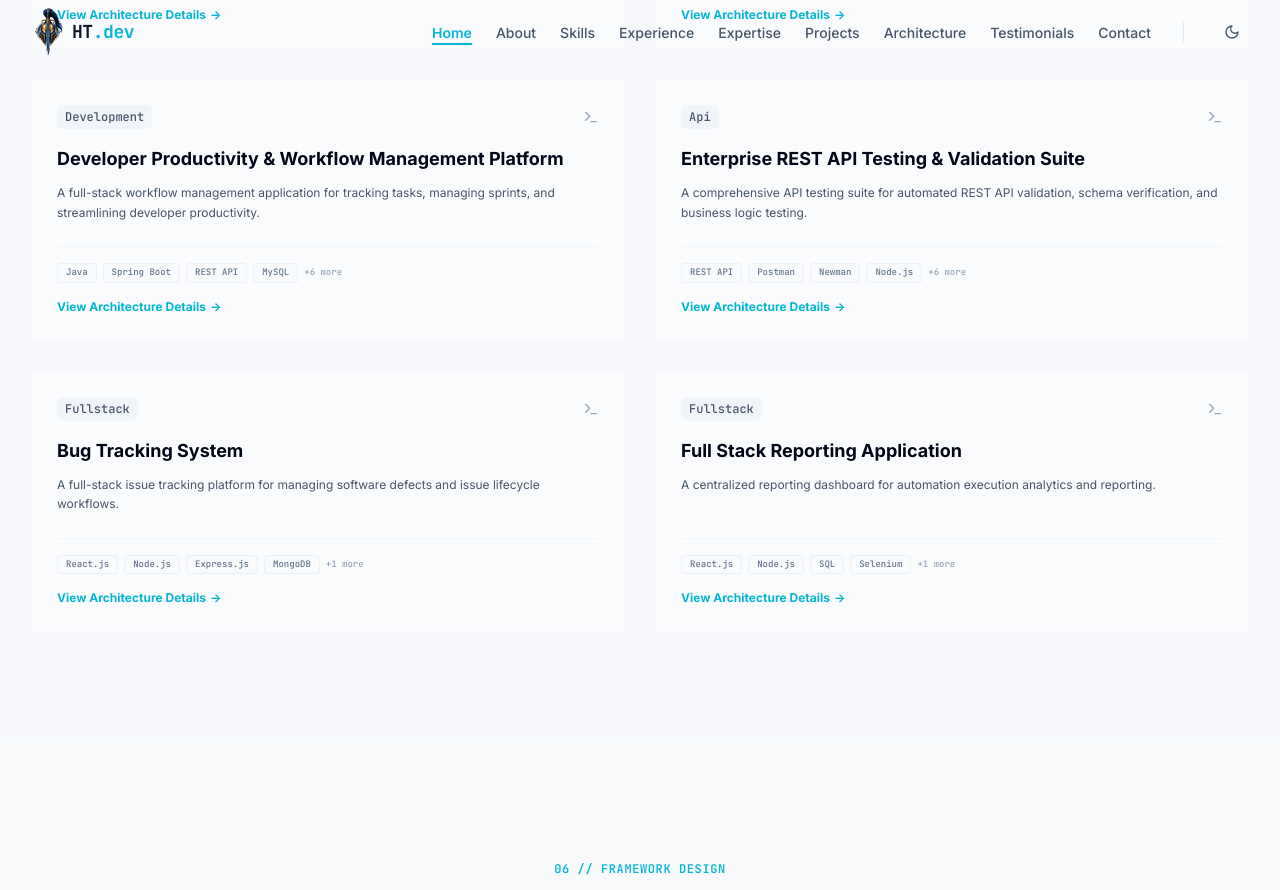
Test: Portfolio Application Test Suite › can open project modal details and close it
(page scrolled)
Click on a project card to select it
Click the heading "Bug Tracking System" at (150,450), box [57,440,243,460]
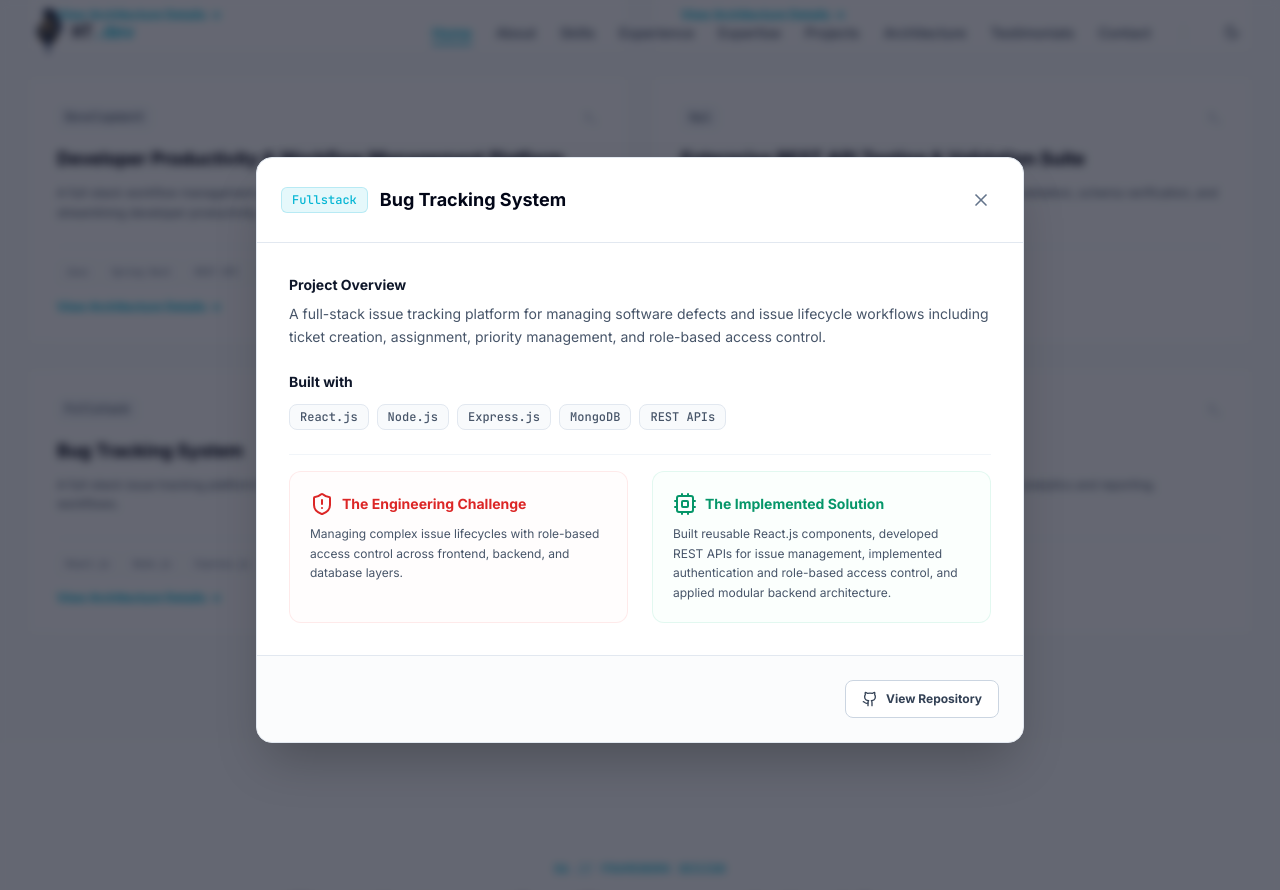
expect the dialog is shown: met, box [256,157,1024,743]
expect the text "The Engineering Challenge" is shown: met, box [342,494,526,514]
expect the text "The Implemented Solution" is shown: met, box [705,494,884,514]
Click on close button inside modal
Click the button named "Close project modal" at (981,200), box [963,182,999,218]
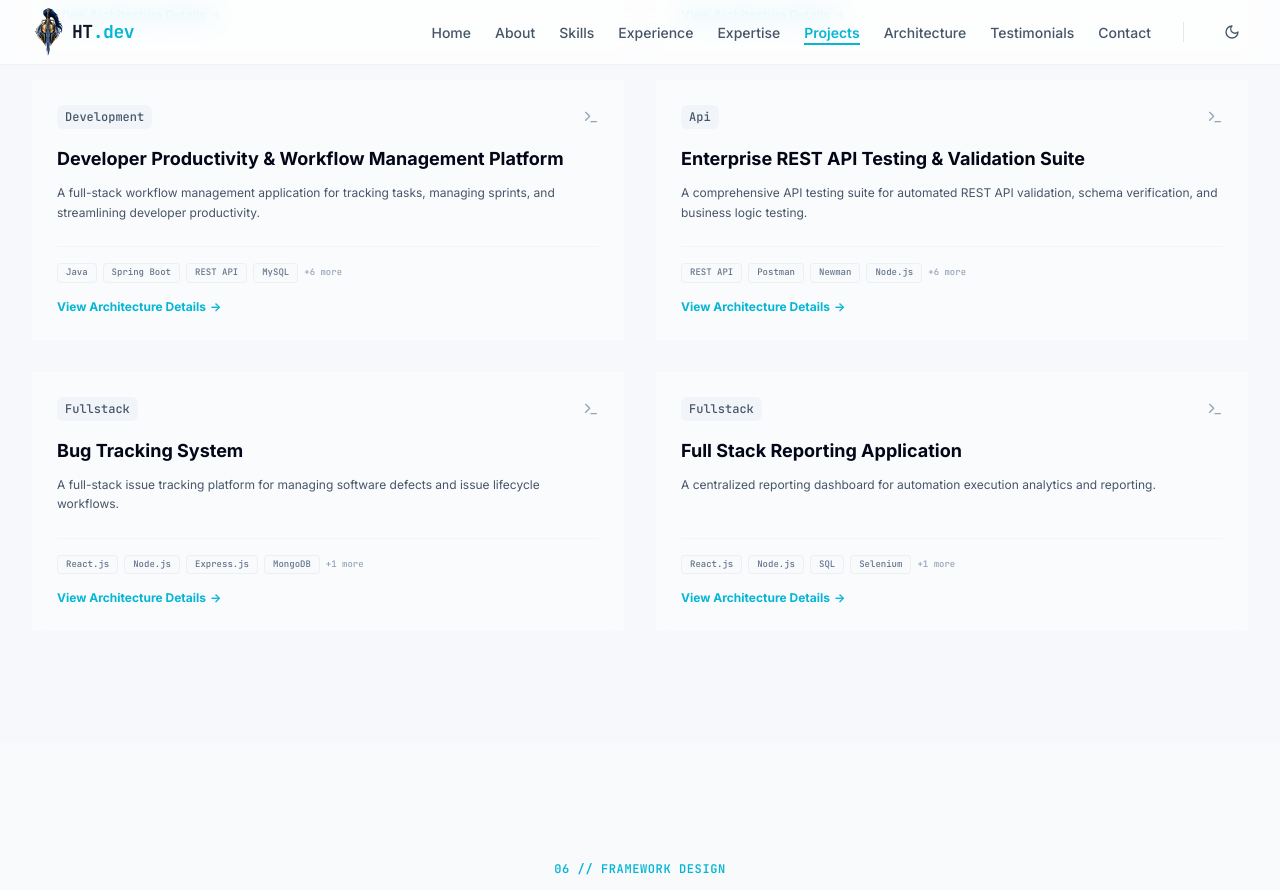
expect the dialog is gone: met
